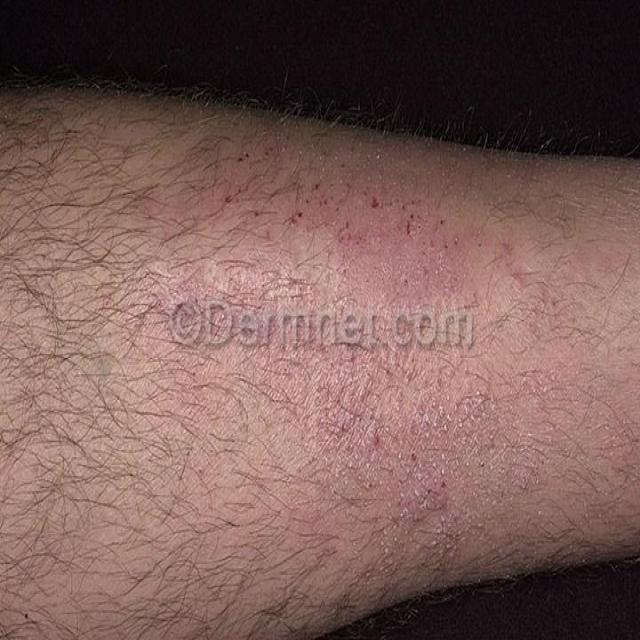Eczema: (302, 380, 592, 580)
